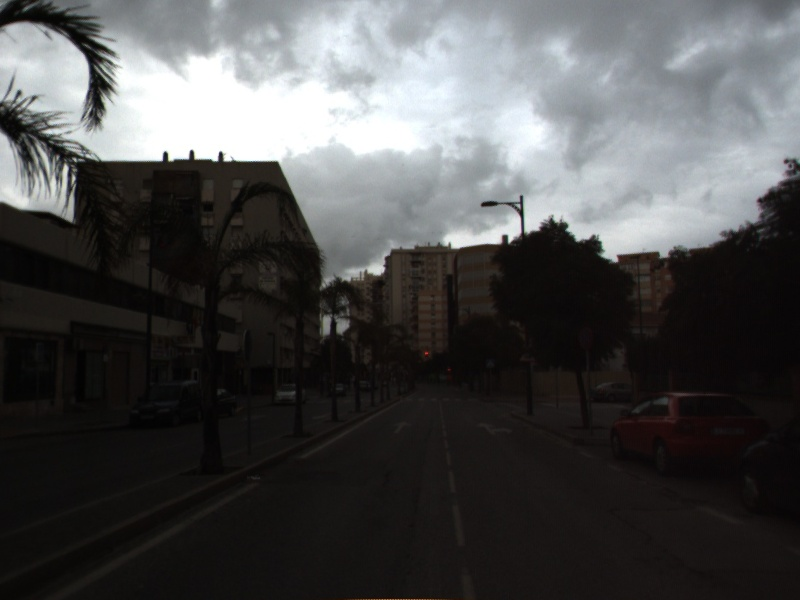STRAIGHT: (391, 419, 415, 436)
STRAIGHT_RIGHT: (474, 420, 515, 437)
